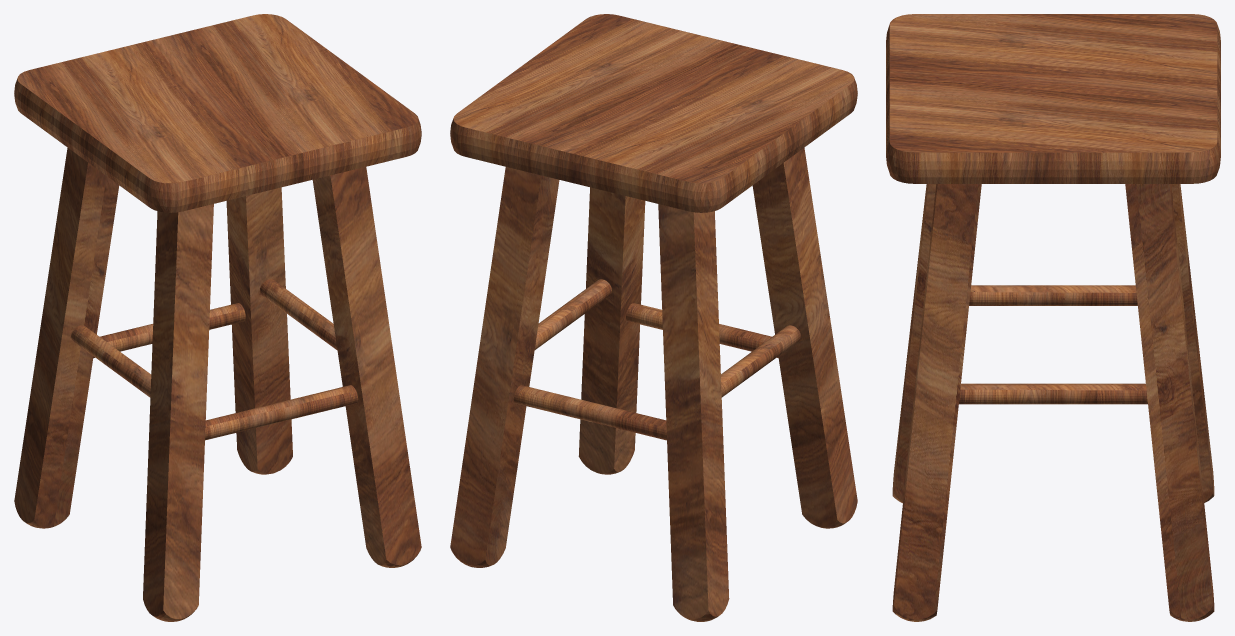
The picture shows the model from 3 angles, left to right: view 1: azimuth 30°, elevation 25°; view 2: azimuth 150°, elevation 25°; view 3: azimuth 270°, elevation 25°; orthographic projection. The views are drawn at different scales.
Visible parts, largest first — view 1: STOOL; view 2: STOOL; view 3: STOOL.
Part boxes in pixels (box(x1,y1,x2,y2)): STOOL: box(14, 14, 421, 621); STOOL: box(450, 14, 857, 621); STOOL: box(886, 14, 1220, 621).
Size of the model in its own units: 0.29 by 0.455 by 0.29.
Materials: 1 (1 with a texture image).
